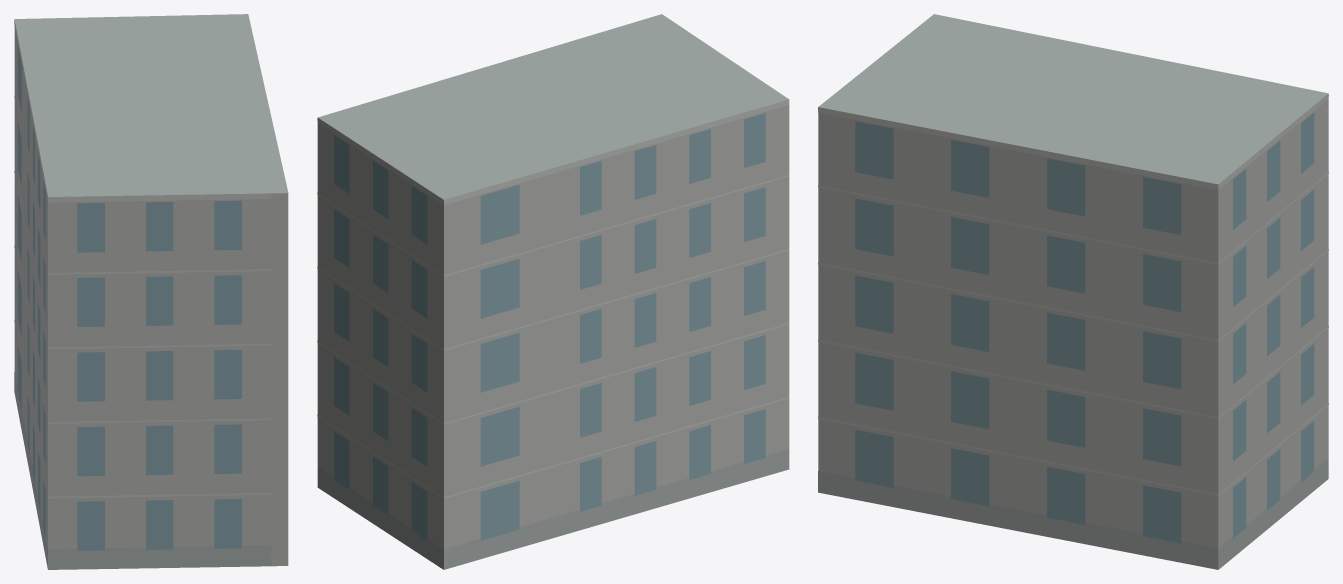
The model's file is survey-upis-33028534.glb.
3 renders of one model, left to right at view 1: azimuth 30°, elevation 25°; view 2: azimuth 150°, elevation 25°; view 3: azimuth 270°, elevation 25°, orthographic. The views are drawn at different scales.
Visible parts, largest first — view 1: survey-upis-33028534.tmp; view 2: survey-upis-33028534.tmp; view 3: survey-upis-33028534.tmp.
Boxes of the visible parts, x1,y1,x2,y2 form: survey-upis-33028534.tmp: (14,14,288,569); survey-upis-33028534.tmp: (317,14,789,569); survey-upis-33028534.tmp: (818,14,1328,569).
Size of the model in its own units: 15.48 by 16.3 by 19.58.
